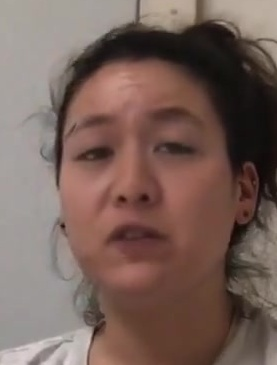eb_f: (61, 101, 209, 166)
